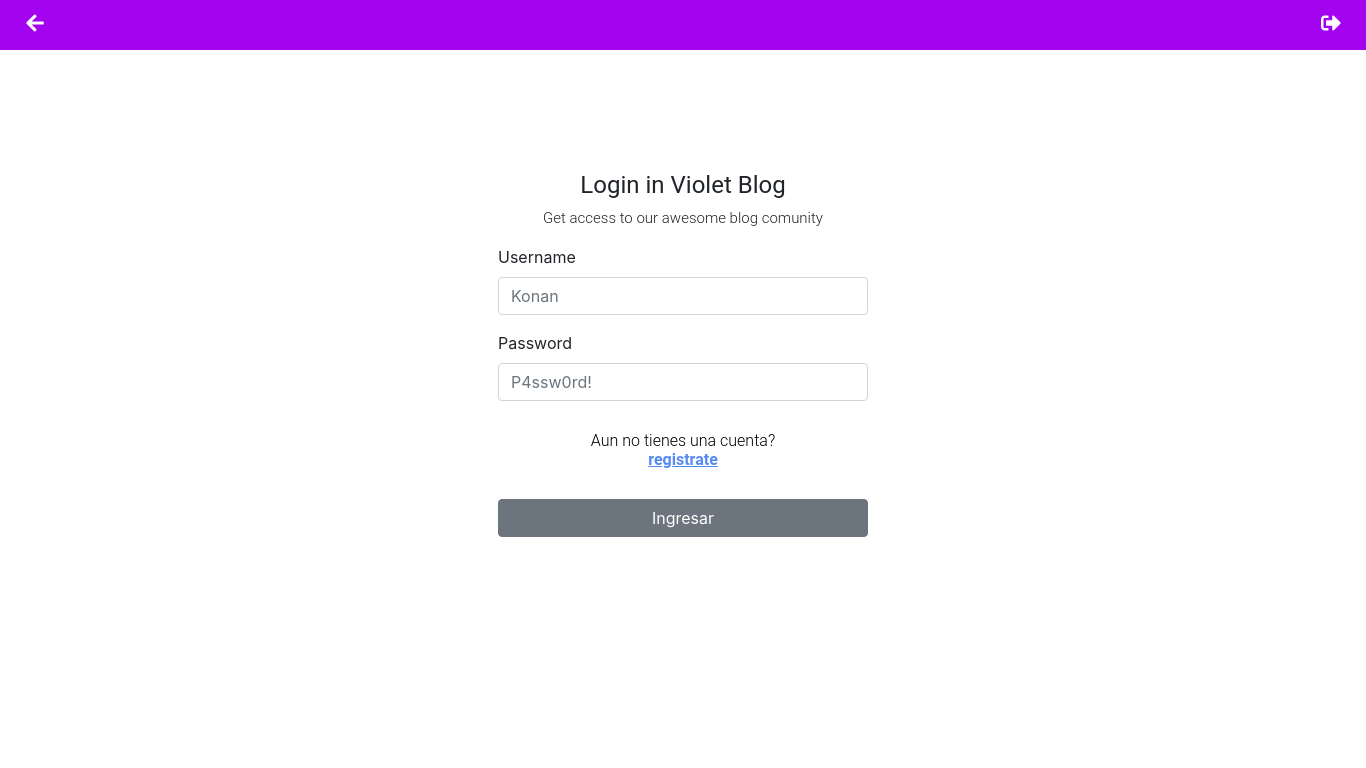
Test: Login with bad credentials › Without username
Type "123Konan!" into the password field with id "current-password" at (683, 382), box top-left (498, 363), bottom-right (868, 401)
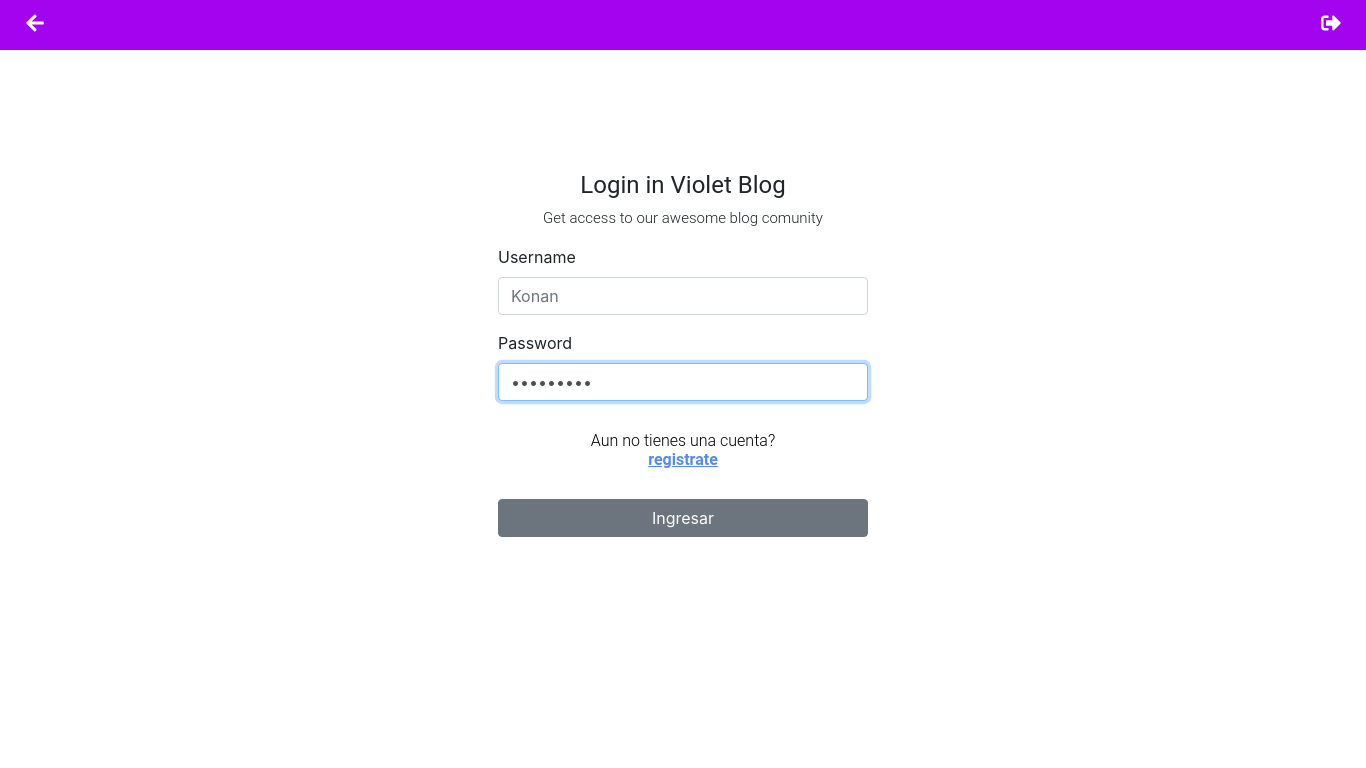
Click the button "Ingresar" at (683, 518), box top-left (498, 499), bottom-right (868, 537)
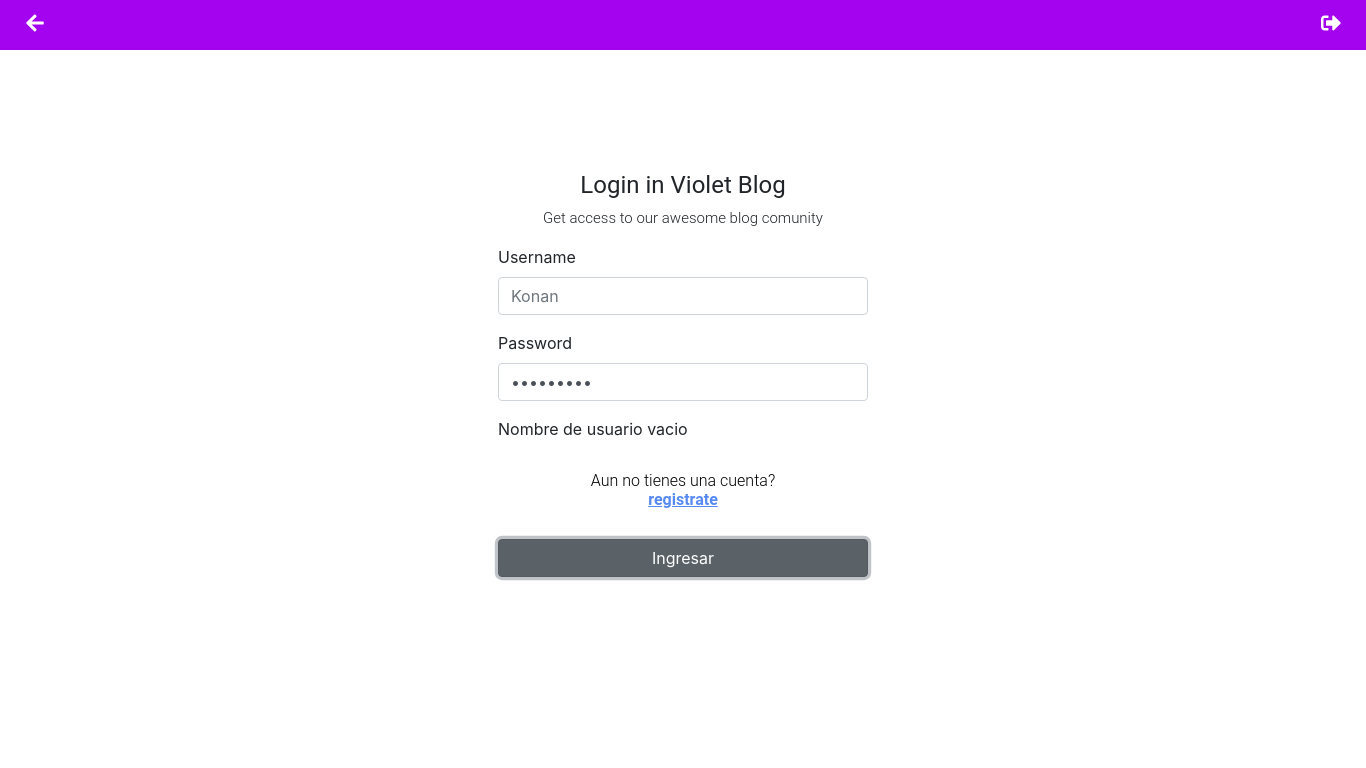
expect the text "Nombre de usuario vacio" is shown: met, box top-left (498, 419), bottom-right (688, 439)
